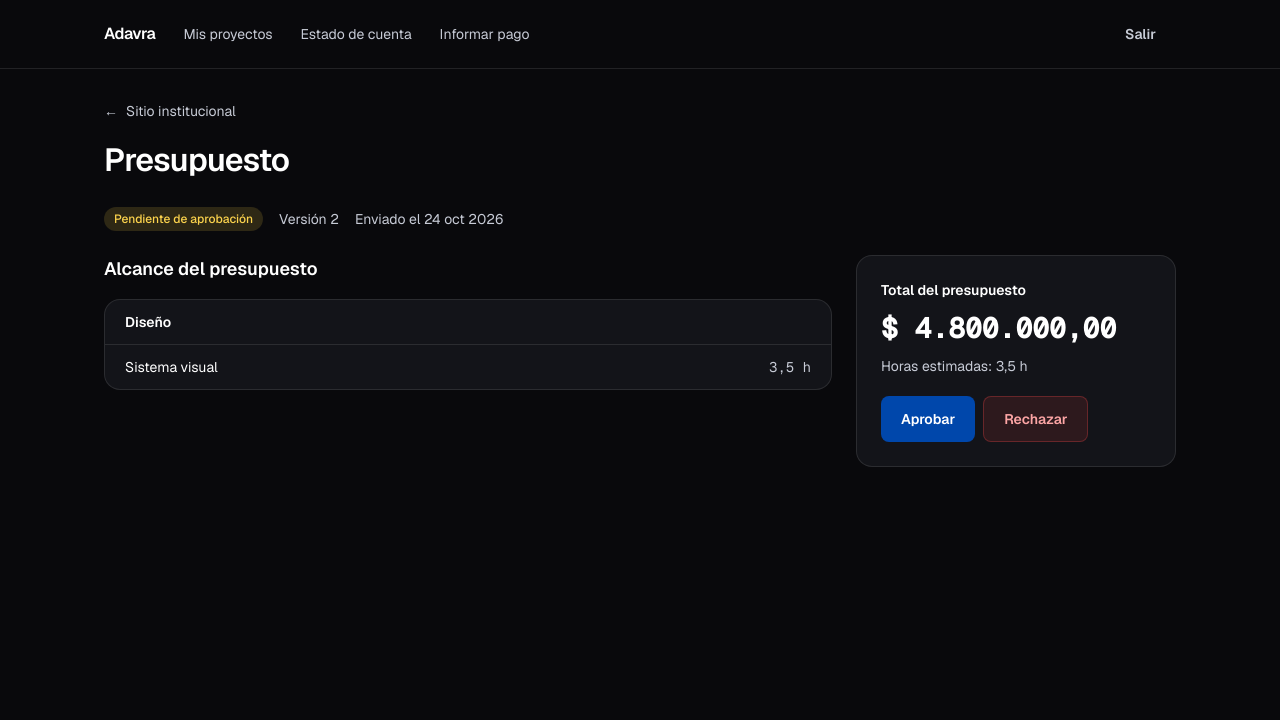
it: Decisión sobre un presupuesto › muestra el detalle del 422 y bloquea la confirmación si alguien ya decidió el presupuesto
Click the button "Rechazar" at (1036,419), box [983,396,1088,442]
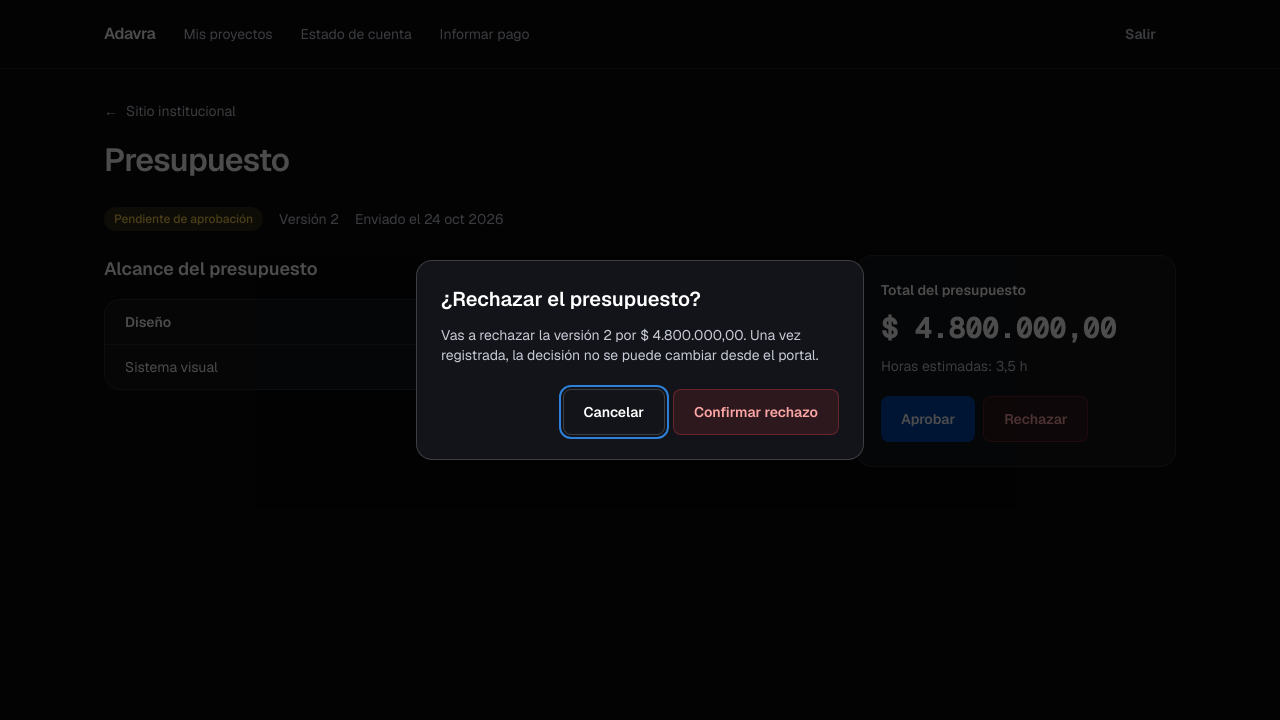
Click the button "Confirmar rechazo" at (756,412), box [673,389,839,435]
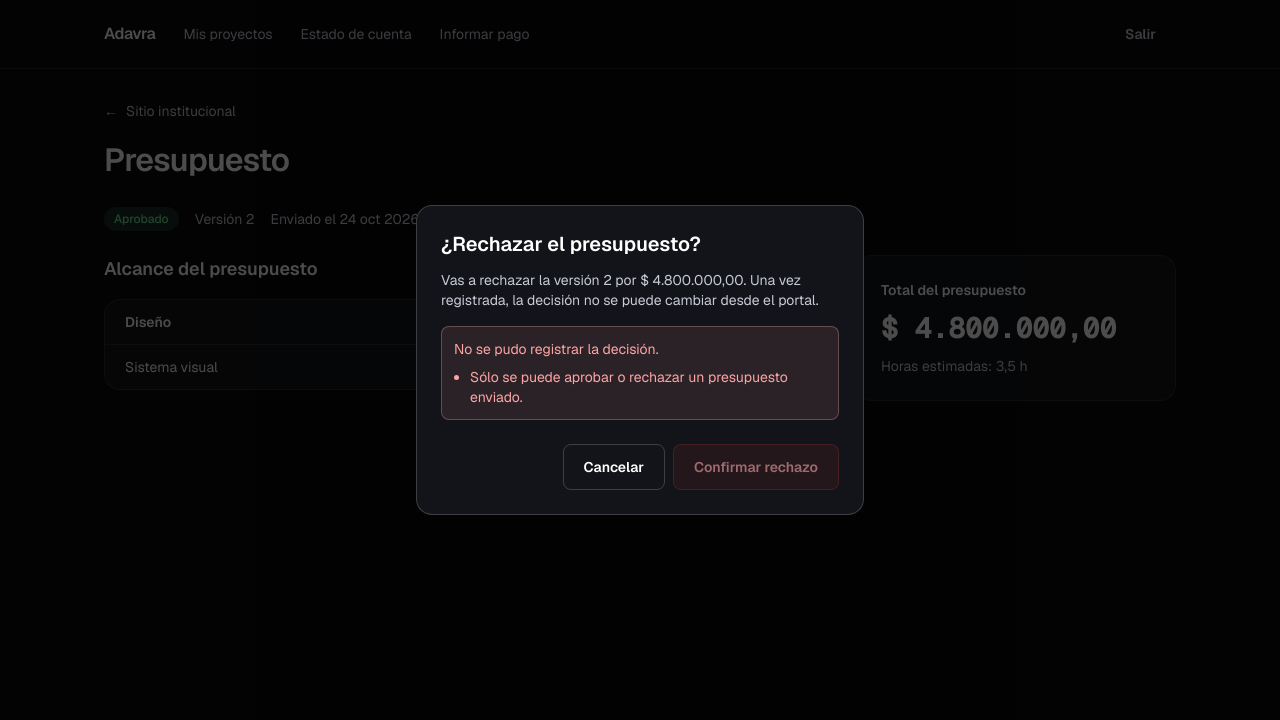
Now the message shows "No se pudo registrar la decisión.", box [454,340,658,358]
Now the message shows "Sólo se puede aprobar o rechazar un presupuesto enviado.", box [470,368,788,406]
Now the button "Confirmar rechazo" is disabled, box [673,444,839,490]
